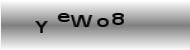8: (111, 11, 125, 26)
W: (70, 14, 93, 27)
Y: (34, 19, 47, 34)
e: (56, 12, 70, 22)
o: (96, 18, 108, 27)
